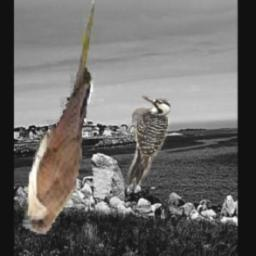Cuckoo: (20, 0, 95, 234)
Woodpecker: (127, 97, 170, 187)
